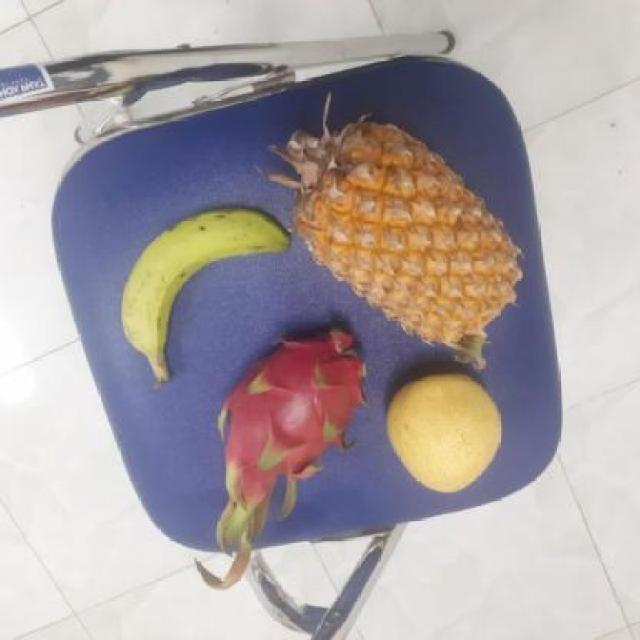banana: (116, 205, 286, 381)
dragon fruit: (209, 323, 368, 488)
pear: (381, 374, 504, 494)
pineapple: (283, 124, 511, 353)
